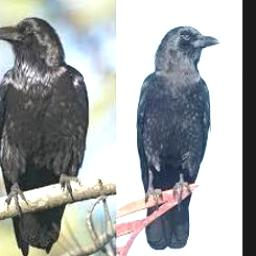Crow: (0, 17, 90, 256), (136, 24, 222, 250)
